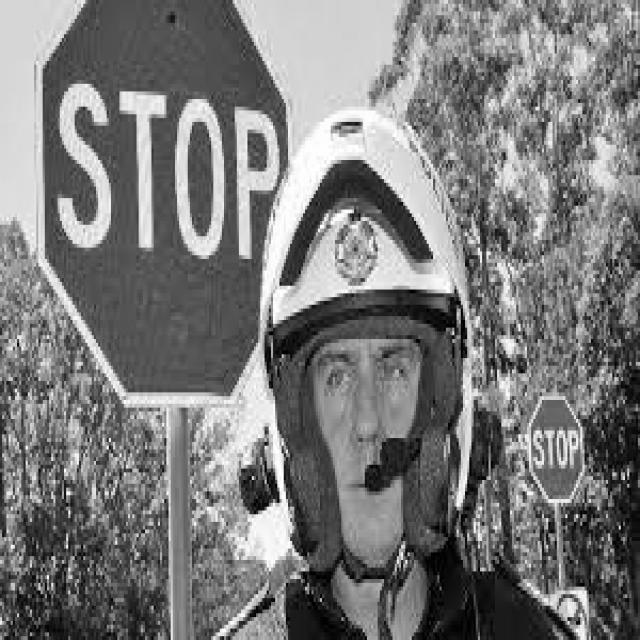stop sign: (39, 7, 288, 398), (530, 393, 588, 502)
